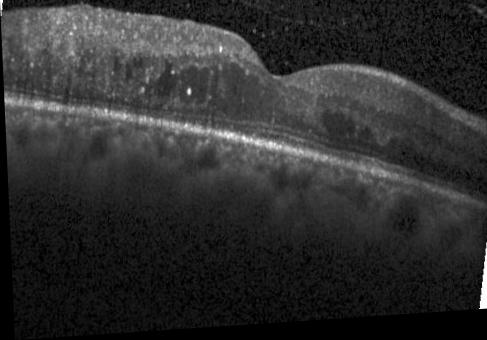intraretinal_cyst: (208, 65, 325, 142), (327, 132, 417, 168), (178, 67, 209, 106), (153, 61, 177, 101), (322, 115, 354, 140), (208, 66, 219, 101), (139, 79, 154, 96), (123, 66, 132, 85), (113, 58, 122, 72), (136, 54, 143, 71), (132, 59, 136, 69)
vitreous_detachment: (223, 0, 359, 33), (465, 10, 487, 25)
